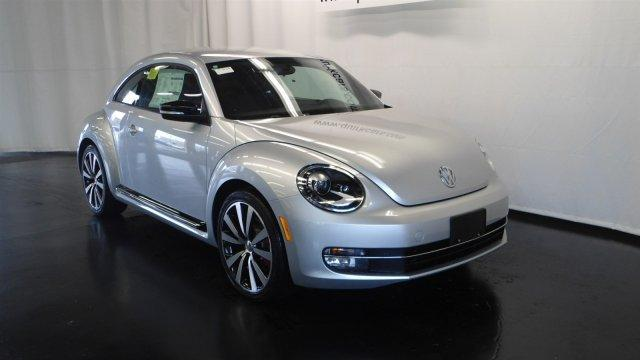Hatchback: (76, 47, 510, 302)
